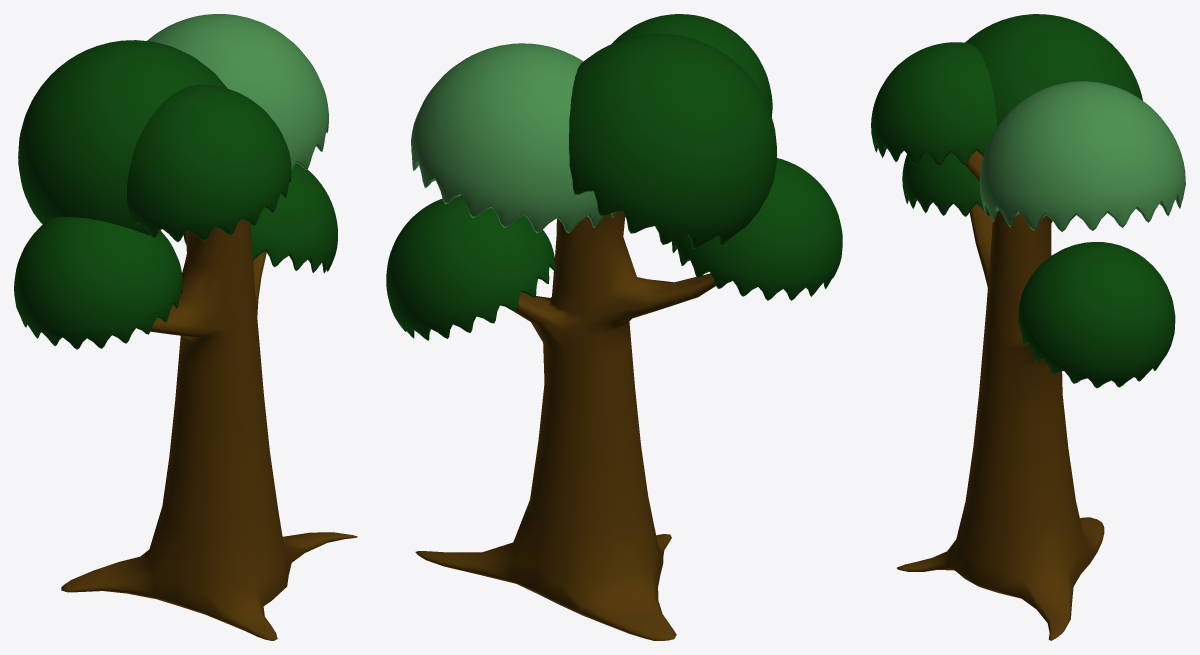
The model's file is Tree_01.fbx.
3 renders of one model, left to right at view 1: azimuth 30°, elevation 25°; view 2: azimuth 150°, elevation 25°; view 3: azimuth 270°, elevation 25°, orthographic. The views are drawn at different scales.
Visible parts, largest first — view 1: Tree4_Leaves5; view 2: Tree4_Leaves5; view 3: Tree4_Leaves5.
Part boxes in pixels (x1,y1,x2,y2): Tree4_Leaves5: (14, 14, 357, 640); Tree4_Leaves5: (386, 14, 842, 640); Tree4_Leaves5: (871, 14, 1185, 640).
Size of the model in its own units: 780 by 1114 by 617.
